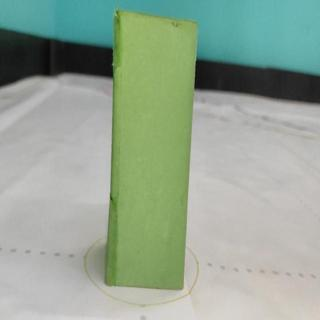greenbox: (105, 7, 201, 291)
